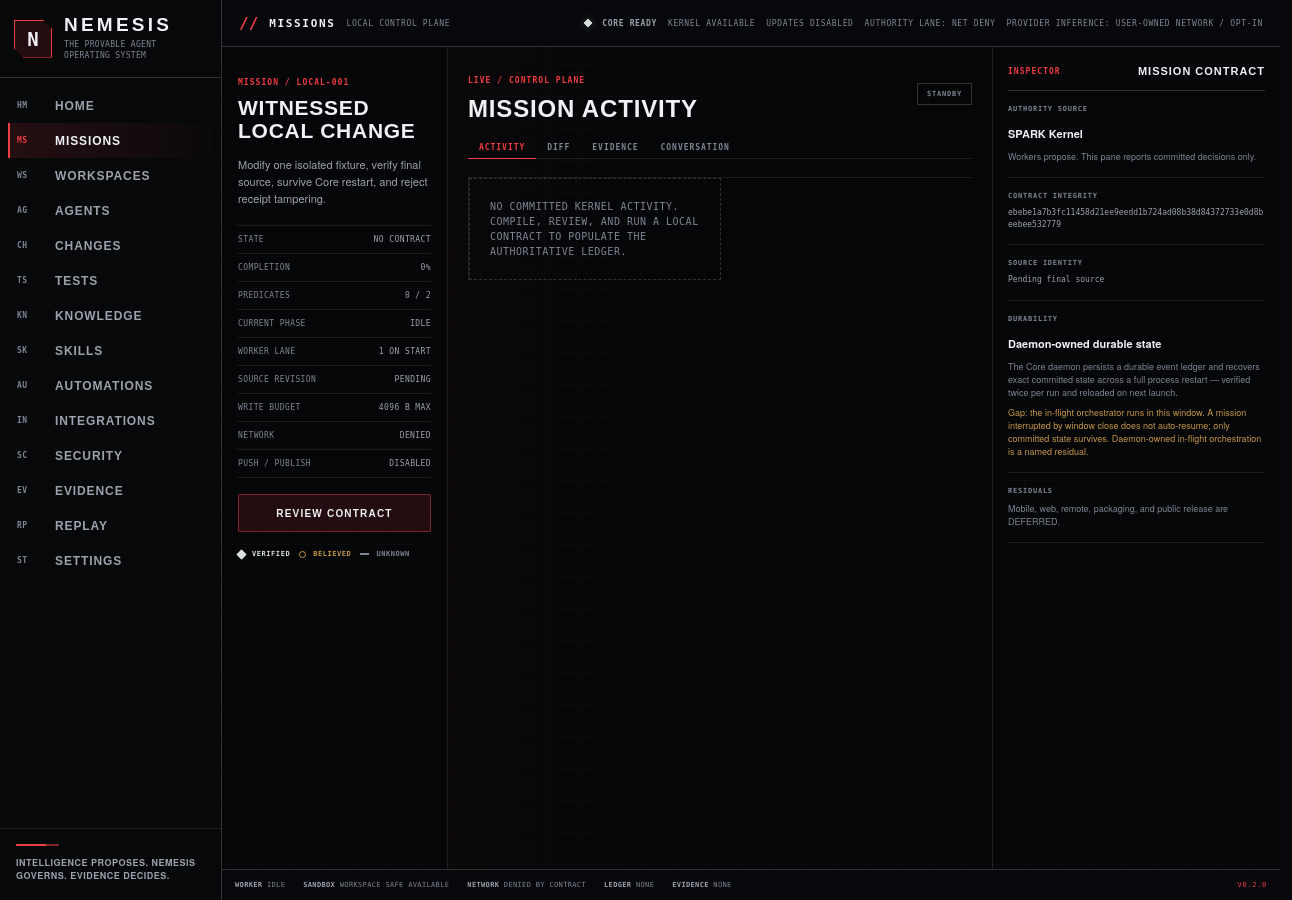
Test case: NEMESIS Desktop production surface › compiles, reviews, and authorizes the exact normalized digests
The width and height of the screenshot is (1292, 900).
Click the button "MS Missions": (110,140) x1=8 y1=123 x2=213 y2=158
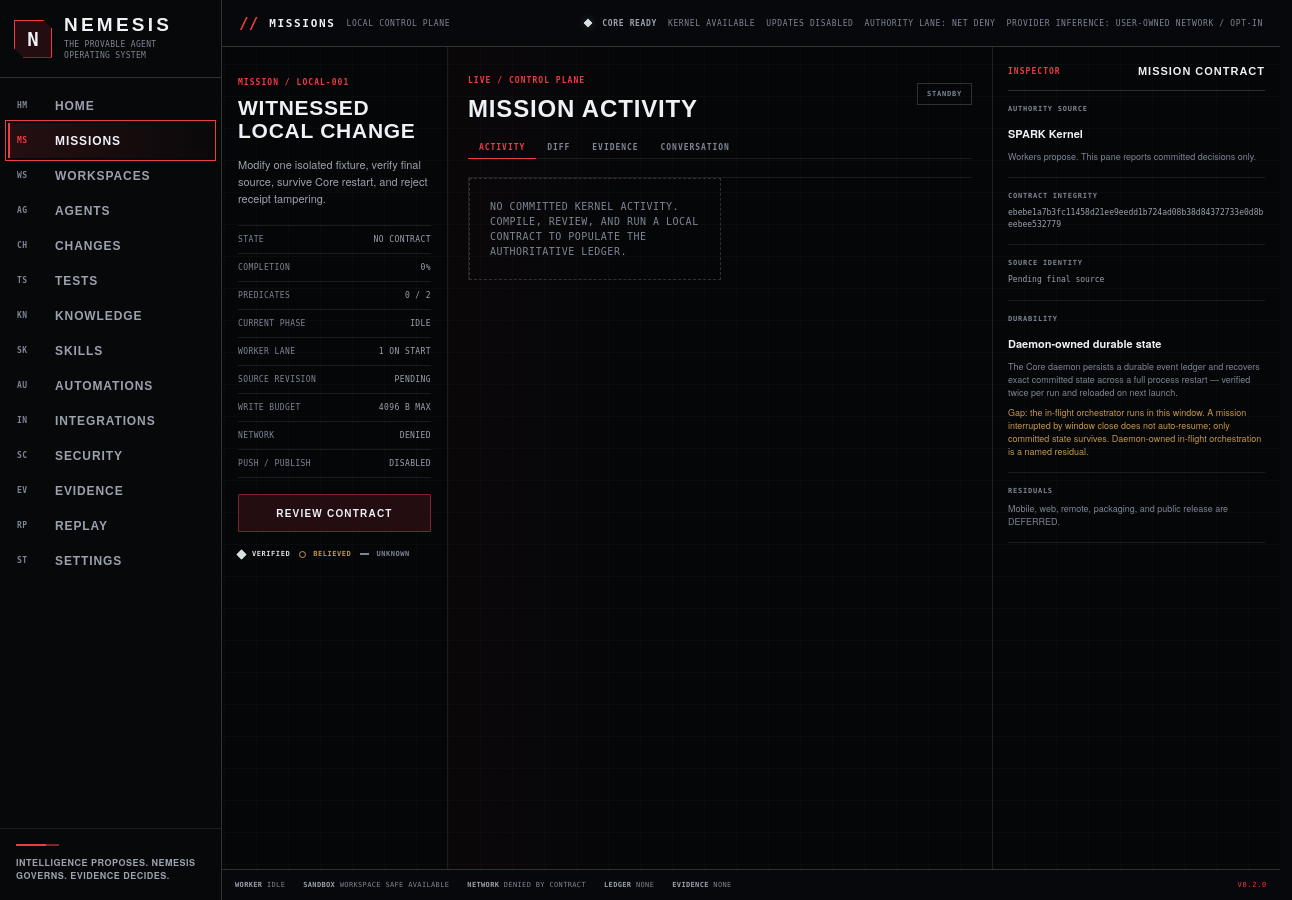
Click the button "Review contract": (334,514) x1=238 y1=494 x2=431 y2=532
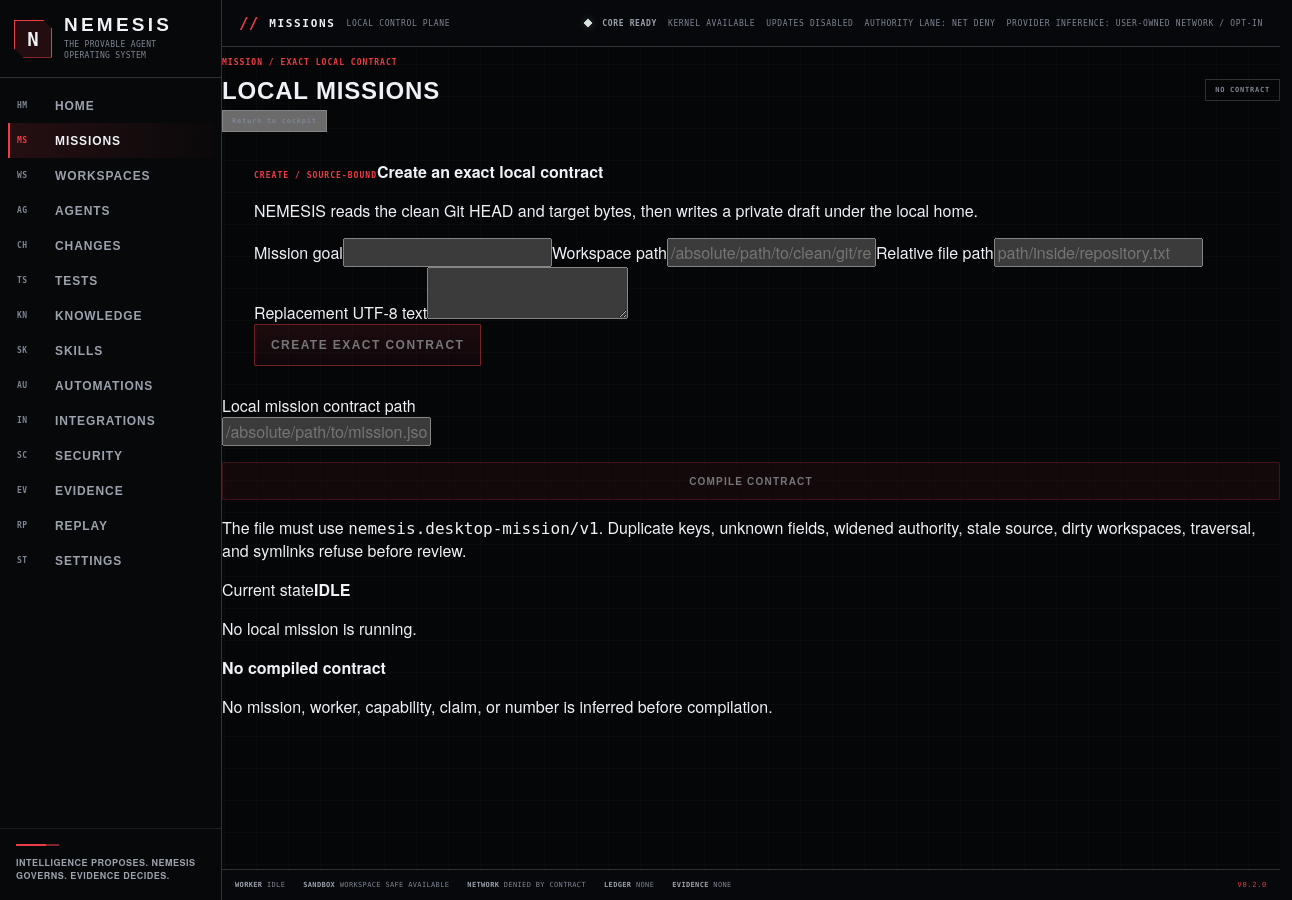
In the field labelled "Local mission contract path": (326,432) x1=222 y1=417 x2=431 y2=446, type "/tmp/mission.json"
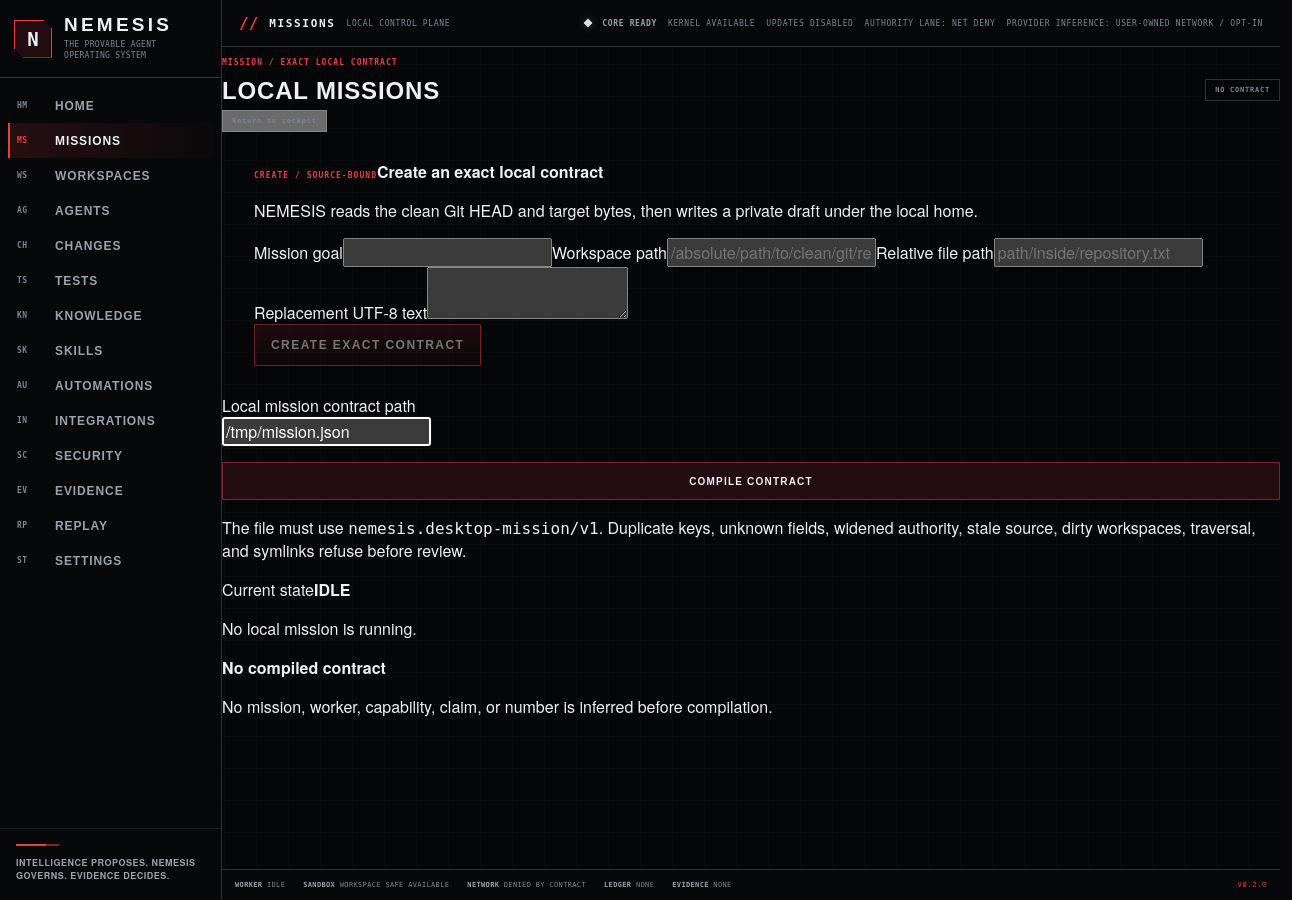
Click the button "Compile contract": (751,481) x1=222 y1=462 x2=1280 y2=500
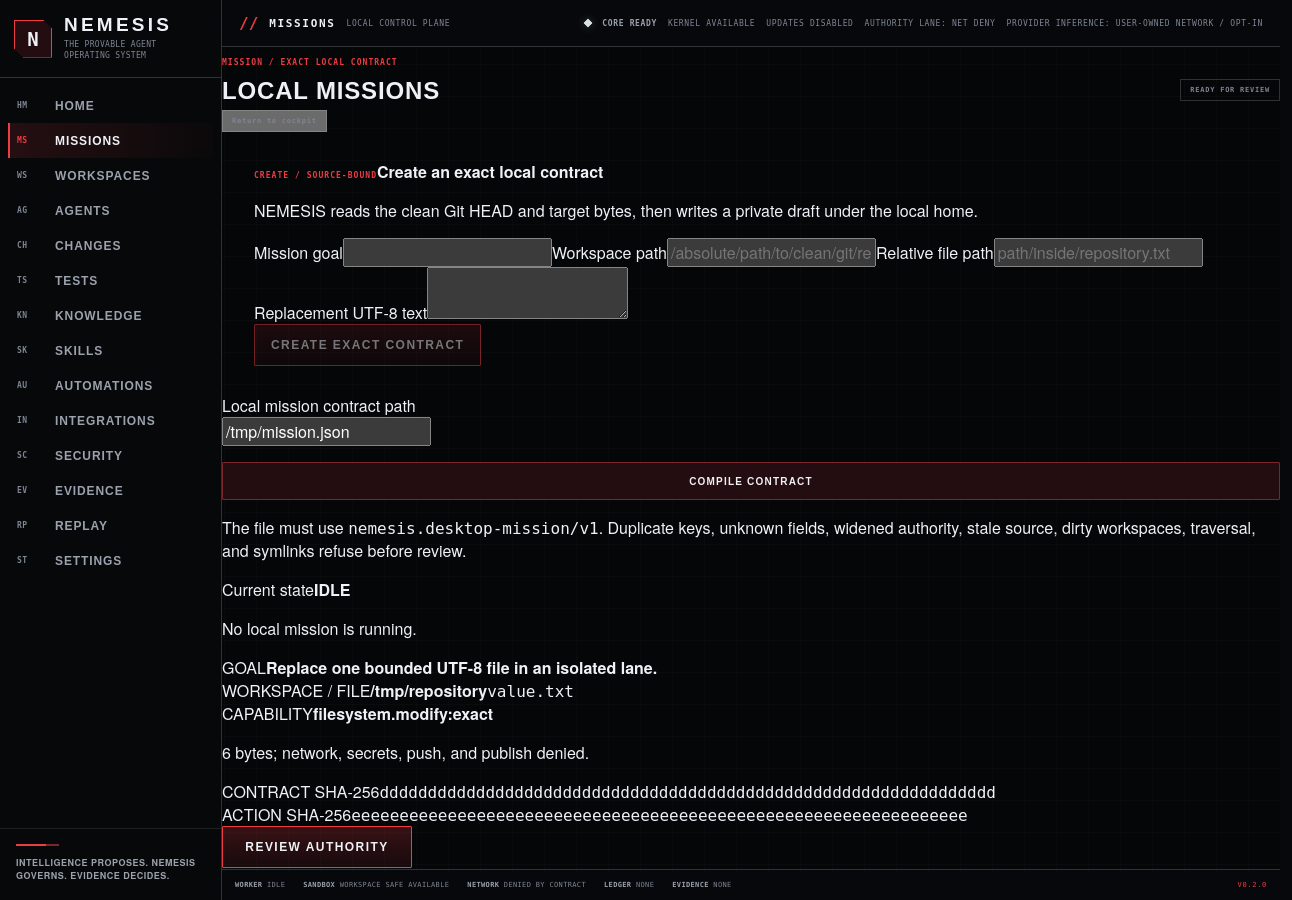
Click the button "Review authority": (317,847) x1=222 y1=826 x2=412 y2=868
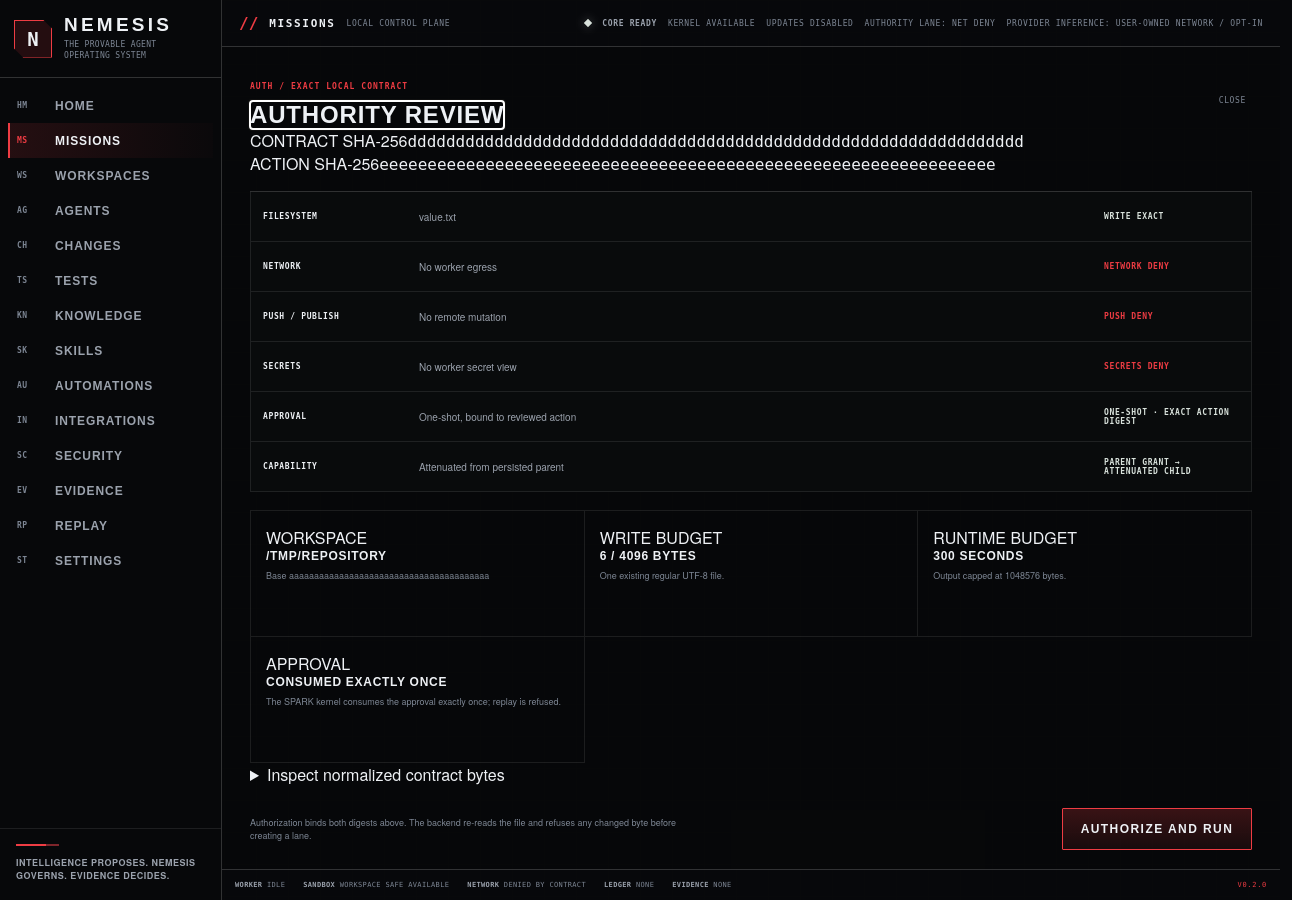
expect the text "NETWORK DENY" is shown: met, box x1=1104 y1=262 x2=1170 y2=271
expect the text "PUSH DENY" is shown: met, box x1=1104 y1=312 x2=1153 y2=321
expect the text "SECRETS DENY" is shown: met, box x1=1104 y1=362 x2=1170 y2=371
Click the button "Authorize and run": (1157,829) x1=1062 y1=808 x2=1252 y2=850
(page scrolled)
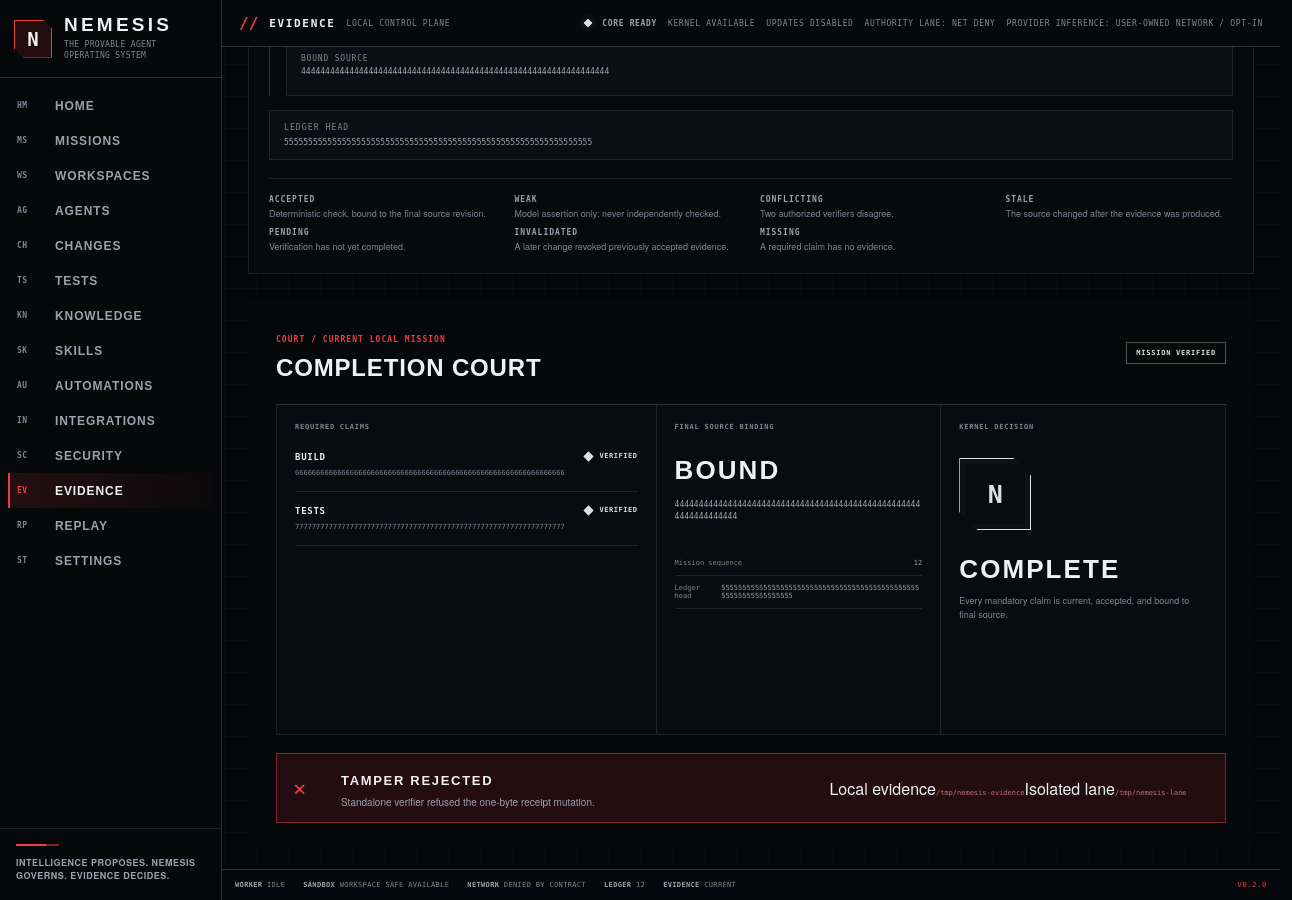
expect the text "MISSION VERIFIED" is shown: met, box x1=1126 y1=342 x2=1226 y2=364
expect the text "TAMPER REJECTED" is shown: met, box x1=341 y1=773 x2=493 y2=788
